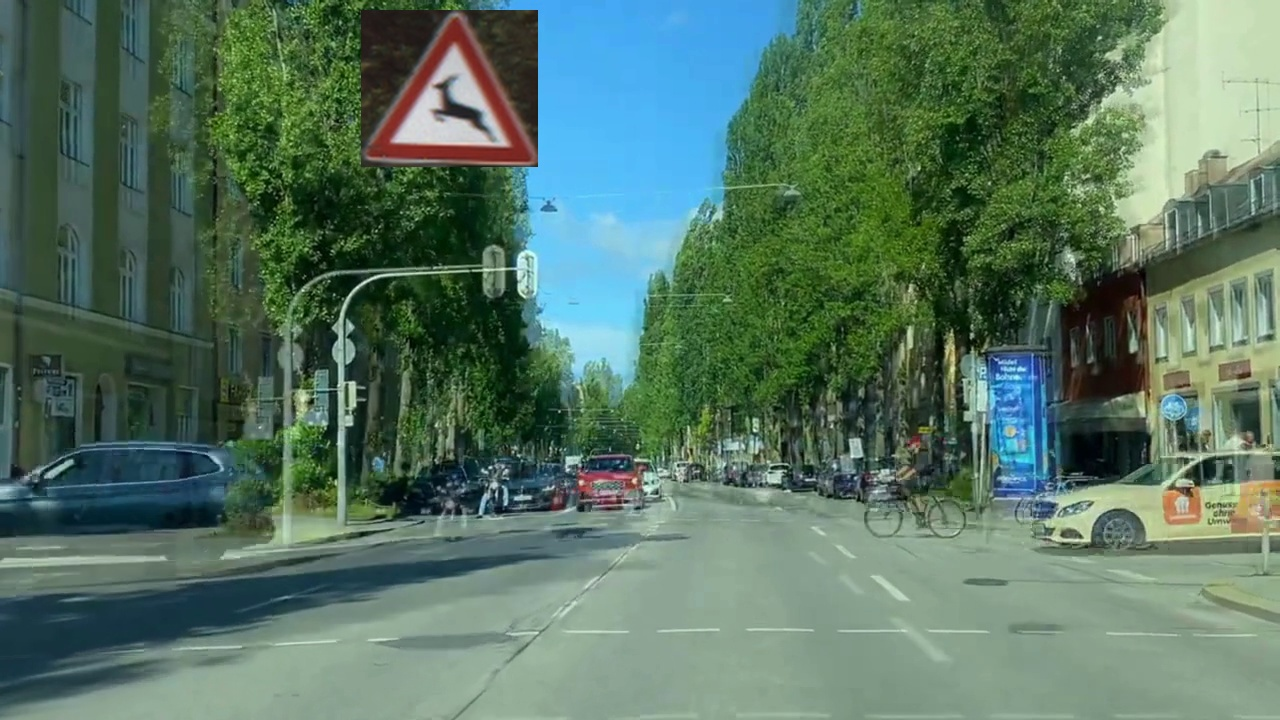Wild animals: (361, 10, 538, 167)
